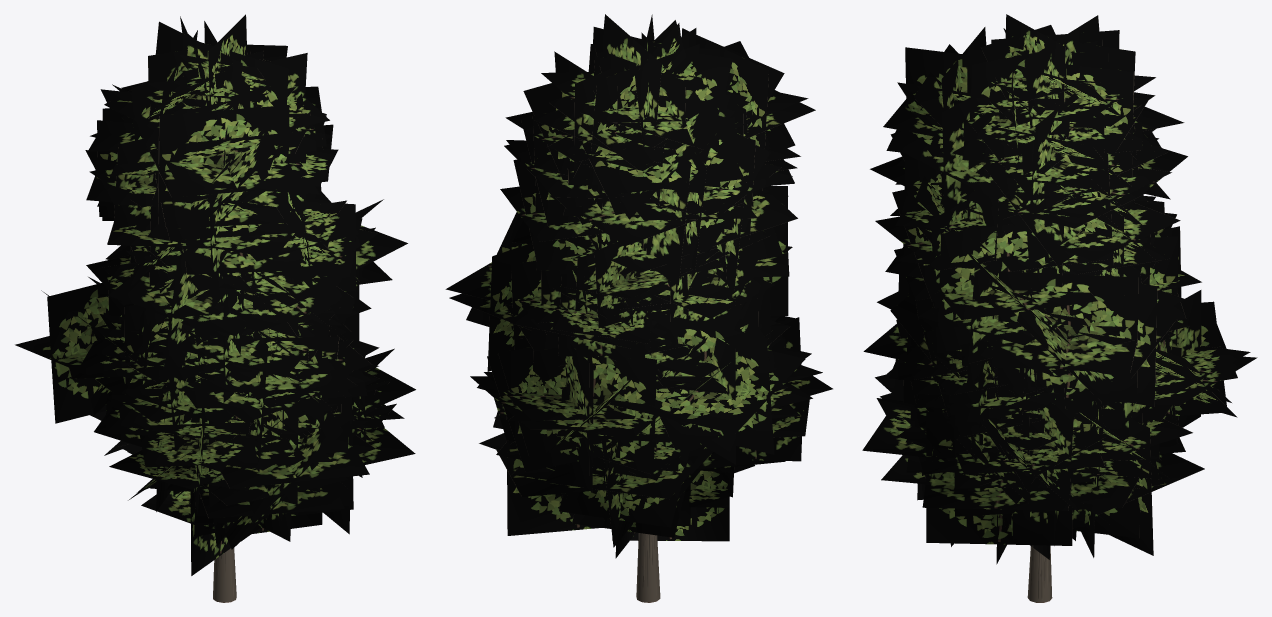
File: tree_ginkgo_0.glb
3 renders of one model, left to right at view 1: azimuth 30°, elevation 25°; view 2: azimuth 150°, elevation 25°; view 3: azimuth 270°, elevation 25°, orthographic.
Visible parts, largest first — view 1: tree_ginkgo_0_LOD0; view 2: tree_ginkgo_0_LOD0; view 3: tree_ginkgo_0_LOD0.
Boxes of the visible parts, x1=… form: tree_ginkgo_0_LOD0: x1=15, y1=14, x2=415, y2=602; tree_ginkgo_0_LOD0: x1=445, y1=14, x2=832, y2=602; tree_ginkgo_0_LOD0: x1=862, y1=14, x2=1257, y2=602.
Size of what is drawn, in the model's own units: 7.19 by 12.78 by 8.07.
1 material, 1 textured.
